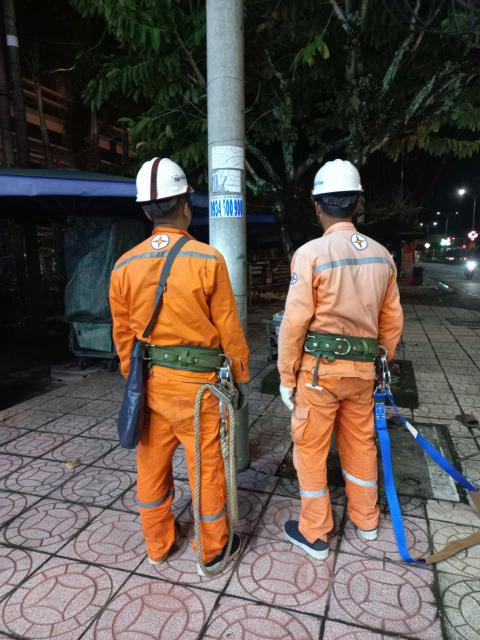gloves: (268, 363, 301, 419), (229, 377, 258, 410)
harness: (131, 331, 225, 397), (295, 322, 383, 378)
helmet: (130, 144, 199, 215), (306, 157, 364, 209)
shoes: (178, 516, 251, 576), (283, 508, 328, 563), (138, 527, 186, 568)
